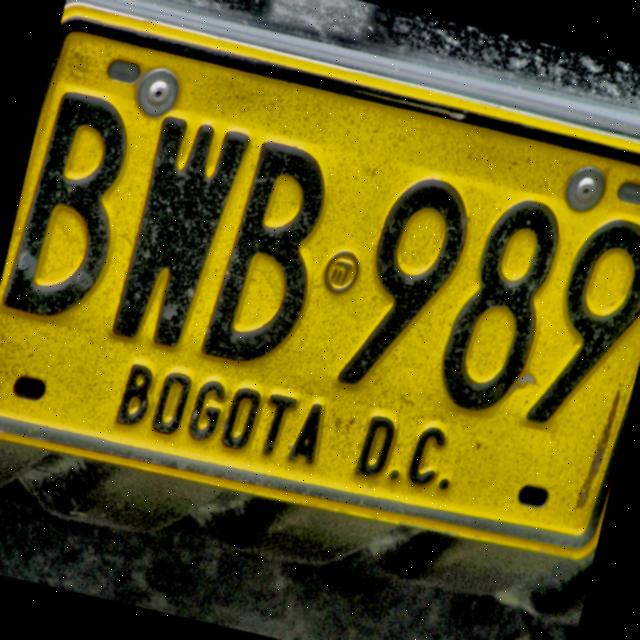plate: (0, 2, 640, 561)
